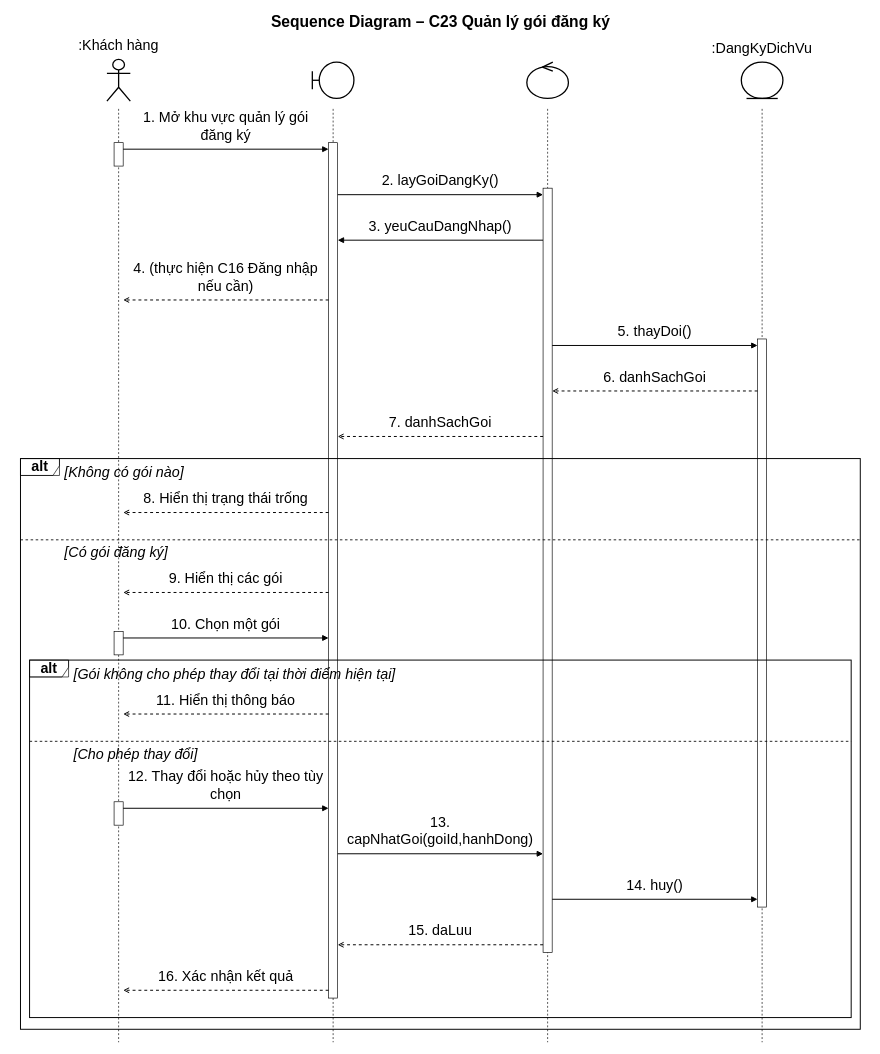
This 880x1054 diagram has some shape labels left out. Here are the shapes that lost their labels. From the top down, the centre of each, then its label:
the point at 332,80: :QuanLyGoiDangKyPage
the point at 547,80: :QuanLyGoiDangKyController
